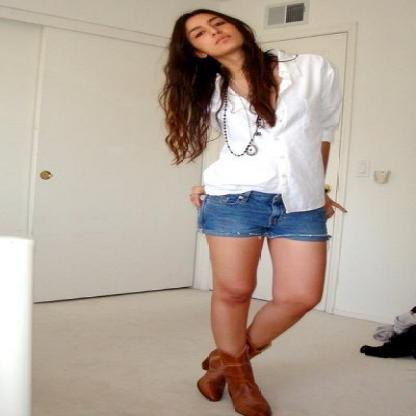shirt: (202, 45, 353, 213)
shoe: (198, 341, 272, 415)
shorts: (197, 191, 330, 242)
